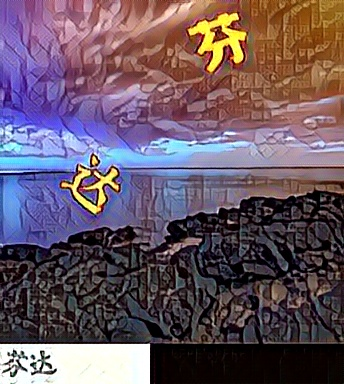B4EF: (62, 151, 122, 215)
B7D2: (185, 11, 245, 75)
